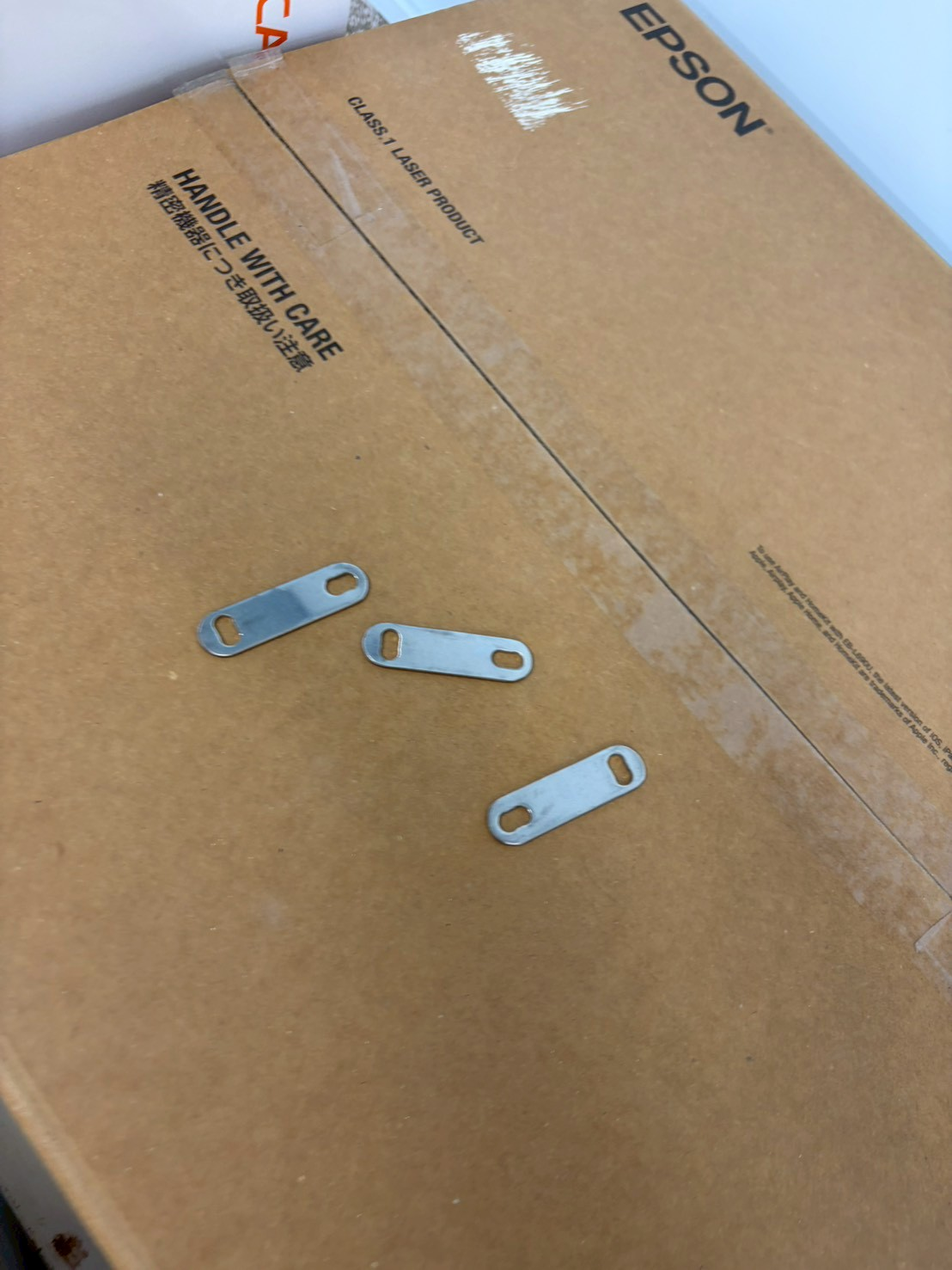Fe: (175, 546, 365, 668), (474, 744, 655, 859), (365, 613, 538, 691)
